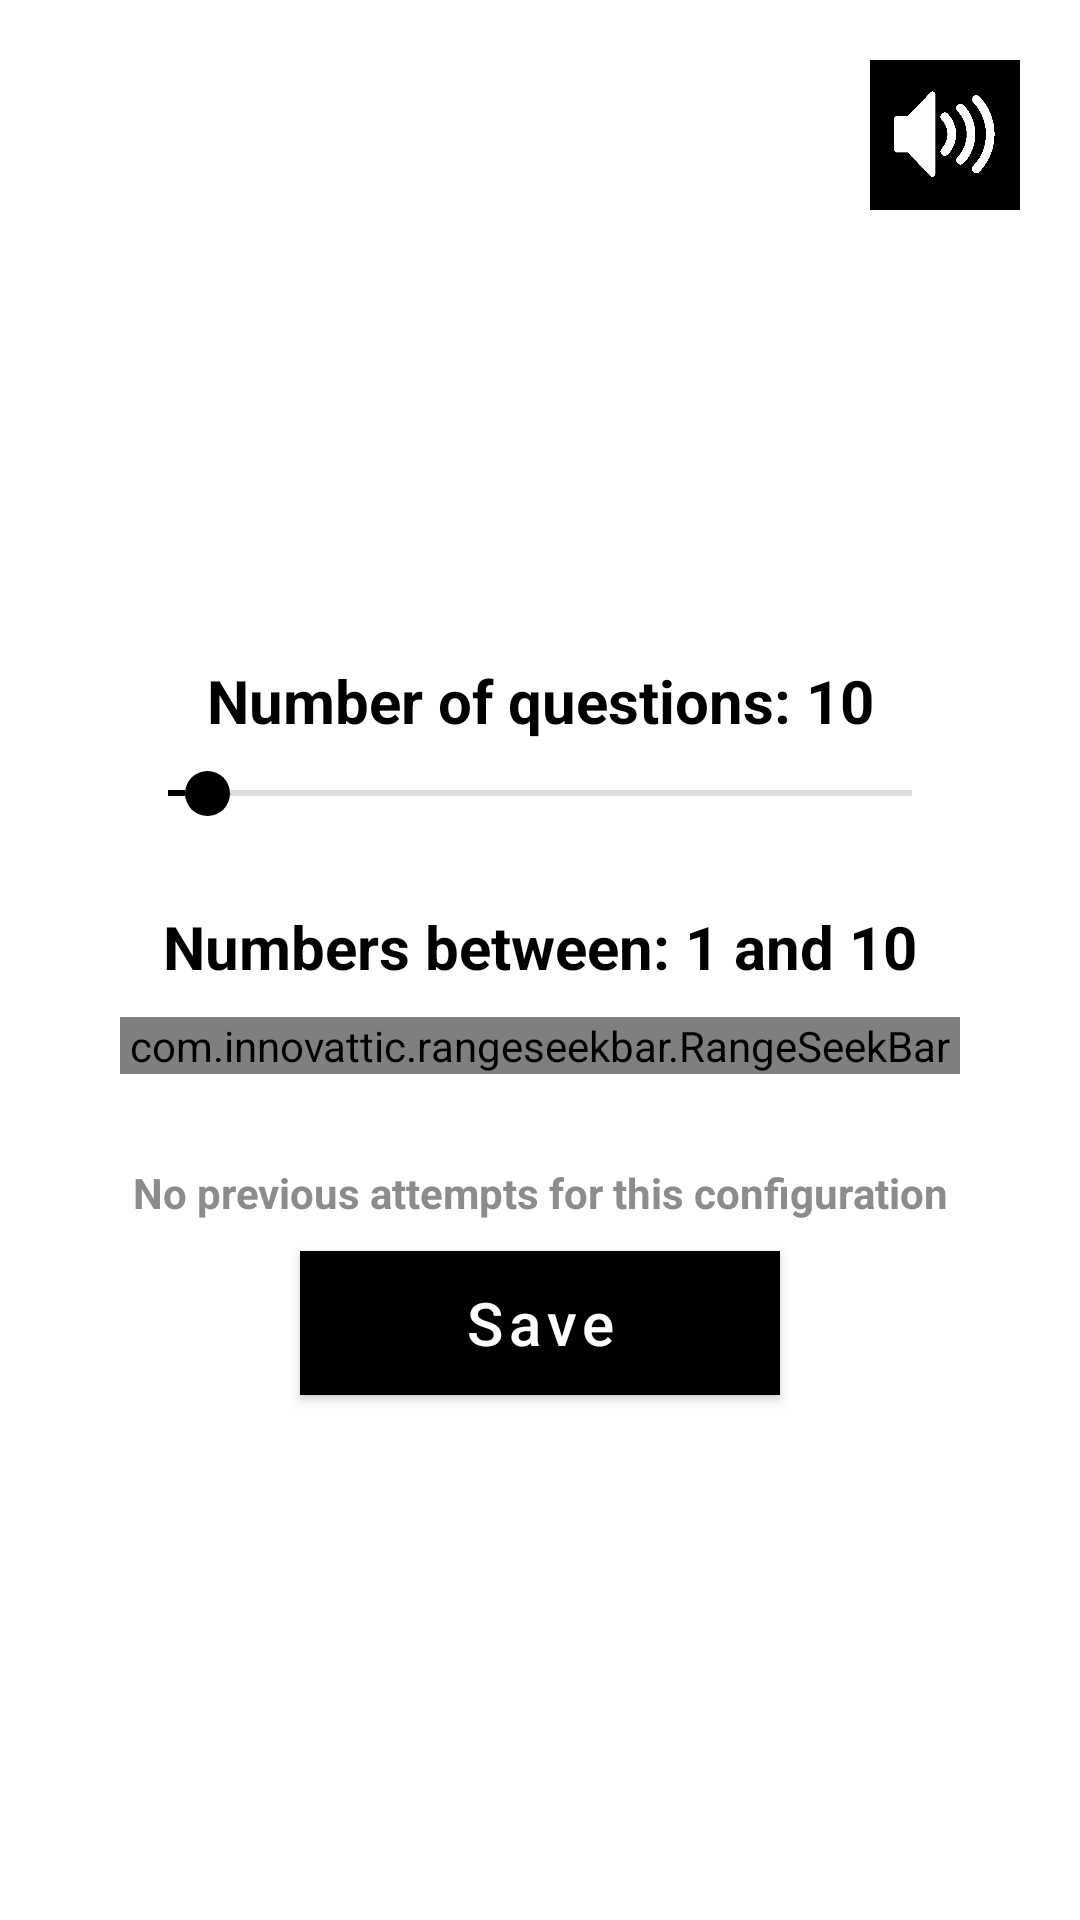

Icons on this 1080px×1920px Android screen, each with its box as (x1, y1, x2, y2):
unmute: (870, 60, 1020, 210)
